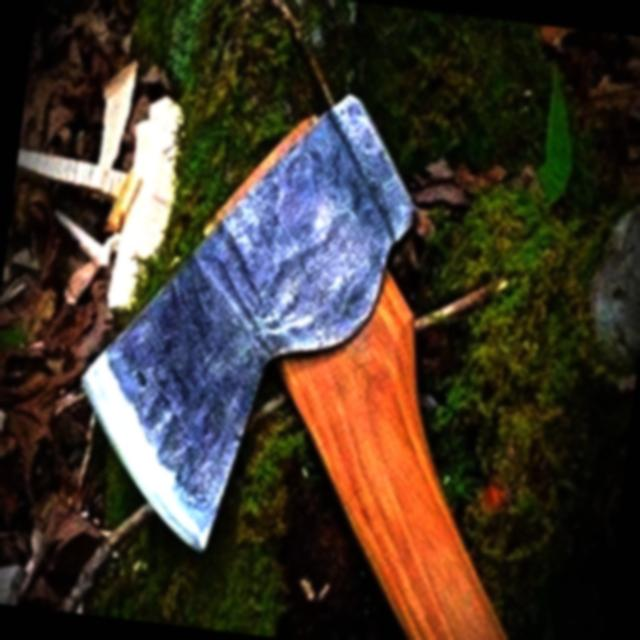ax: (39, 52, 594, 640)
